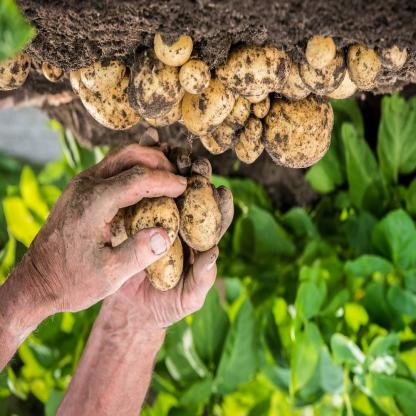potato: (262, 89, 334, 170), (127, 40, 192, 122), (78, 58, 144, 132), (215, 39, 293, 95), (180, 68, 238, 138), (123, 189, 179, 255), (178, 172, 223, 253), (138, 219, 184, 293), (347, 36, 384, 92), (80, 49, 126, 93), (0, 40, 32, 92), (153, 29, 193, 68)
